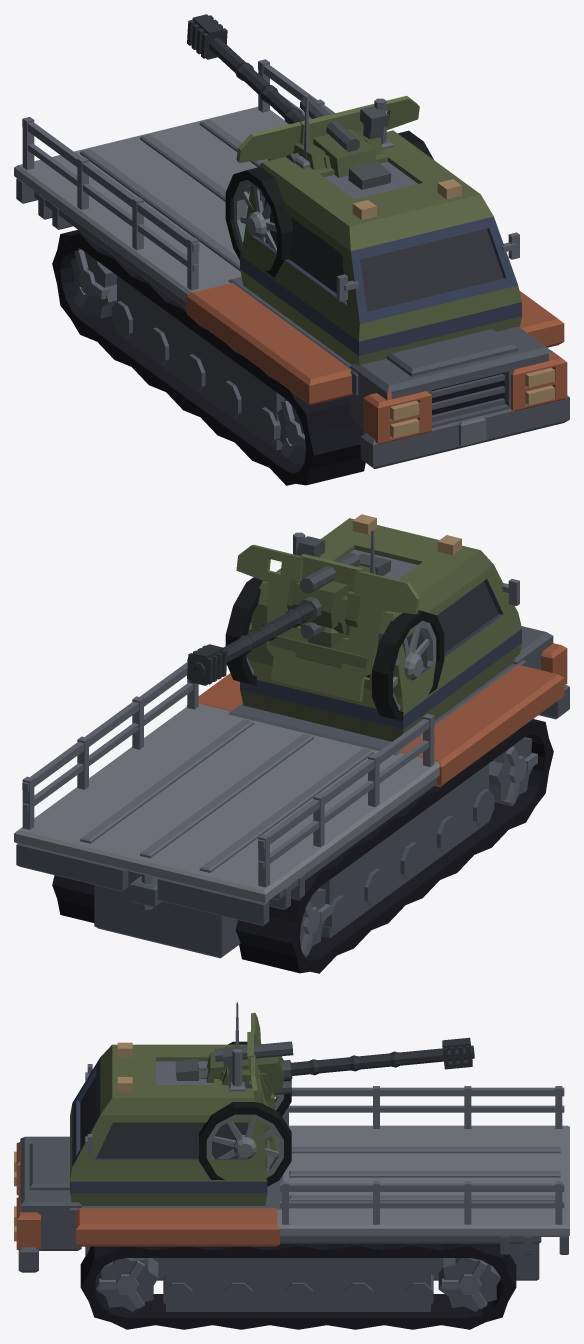
The model's file is spg.glb.
3 renders of one model, top to bottom at view 1: azimuth 30°, elevation 25°; view 2: azimuth 150°, elevation 25°; view 3: azimuth 270°, elevation 25°, orthographic. The views are drawn at different scales.
Parts seen in each view (by area): view 1: crawler-body, wheel-r-mesh, gun-cradle, gun-barrel, shield-plate, wheel-rl-mesh, wheel-fl-mesh, top-carriage, mast-mesh; view 2: crawler-body, shield-plate, wheel-r-mesh, gun-cradle, gun-barrel, wheel-fl-mesh, wheel-l-mesh, top-carriage, wheel-rl-mesh; view 3: crawler-body, wheel-l-mesh, gun-barrel, wheel-fr-mesh, wheel-rr-mesh, gun-cradle, shield-plate, mast-mesh, top-carriage.
Boxes of the visible parts, left/top/right/bottom form: crawler-body: left=14, top=59, right=569, bottom=485; wheel-r-mesh: left=225, top=167, right=293, bottom=277; gun-cradle: left=299, top=96, right=388, bottom=177; gun-barrel: left=187, top=14, right=391, bottom=189; shield-plate: left=236, top=95, right=419, bottom=162; wheel-rl-mesh: left=71, top=248, right=116, bottom=318; wheel-fl-mesh: left=277, top=398, right=306, bottom=465; top-carriage: left=286, top=127, right=383, bottom=170; mast-mesh: left=294, top=96, right=393, bottom=168; crawler-body: left=14, top=514, right=569, bottom=973; shield-plate: left=236, top=544, right=419, bottom=701; wheel-r-mesh: left=372, top=610, right=444, bottom=721; gun-cradle: left=292, top=536, right=375, bottom=639; gun-barrel: left=187, top=553, right=391, bottom=685; wheel-fl-mesh: left=489, top=737, right=537, bottom=806; wheel-l-mesh: left=225, top=577, right=262, bottom=685; top-carriage: left=287, top=579, right=360, bottom=643; wheel-rl-mesh: left=300, top=888, right=331, bottom=957; crawler-body: left=14, top=1042, right=569, bottom=1329; wheel-l-mesh: left=199, top=1102, right=291, bottom=1186; gun-barrel: left=175, top=1037, right=474, bottom=1080; wheel-fr-mesh: left=95, top=1258, right=158, bottom=1311; wheel-rr-mesh: left=438, top=1258, right=500, bottom=1311; gun-cradle: left=206, top=1031, right=293, bottom=1095; shield-plate: left=251, top=1012, right=277, bottom=1159; mast-mesh: left=229, top=1002, right=245, bottom=1091; top-carriage: left=219, top=1046, right=274, bottom=1107.
Size of the model in its own units: 3.08 by 3.69 by 7.
